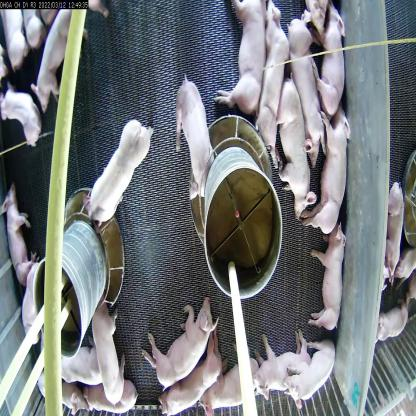Pig: (84, 104, 148, 228), (214, 0, 269, 127), (266, 78, 316, 210), (282, 0, 324, 153), (36, 7, 90, 119), (86, 300, 131, 413), (156, 305, 214, 384), (253, 11, 285, 154), (316, 115, 352, 232), (162, 352, 227, 415), (285, 332, 339, 405), (256, 326, 312, 392), (316, 11, 346, 130), (320, 230, 351, 330), (210, 358, 274, 406), (7, 82, 44, 157), (51, 329, 102, 375), (4, 190, 28, 279)
